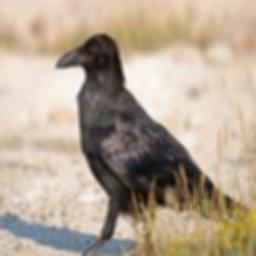Crow: (55, 32, 256, 256)
